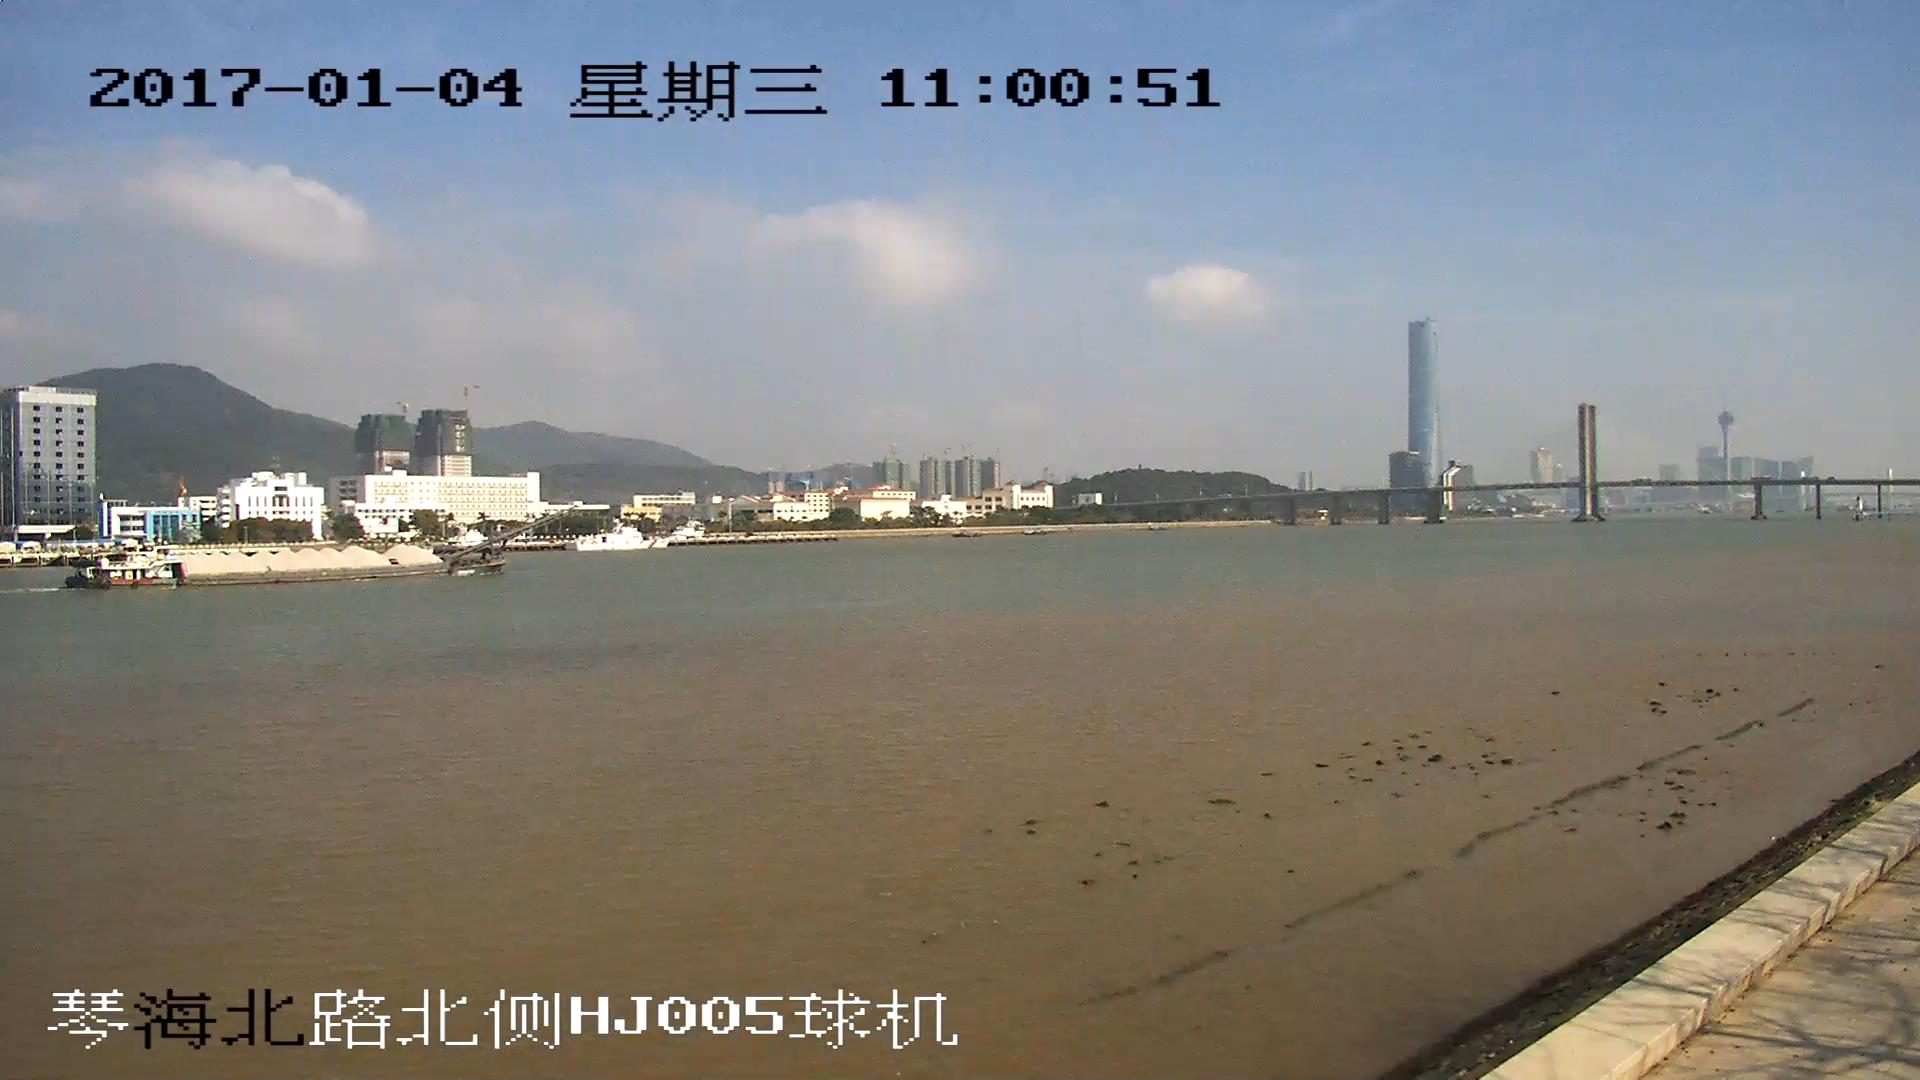ore carrier: (65, 506, 575, 589)
